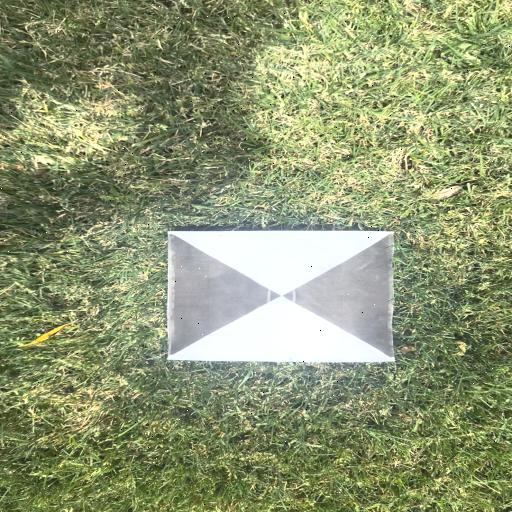target: (166, 232, 395, 363)
